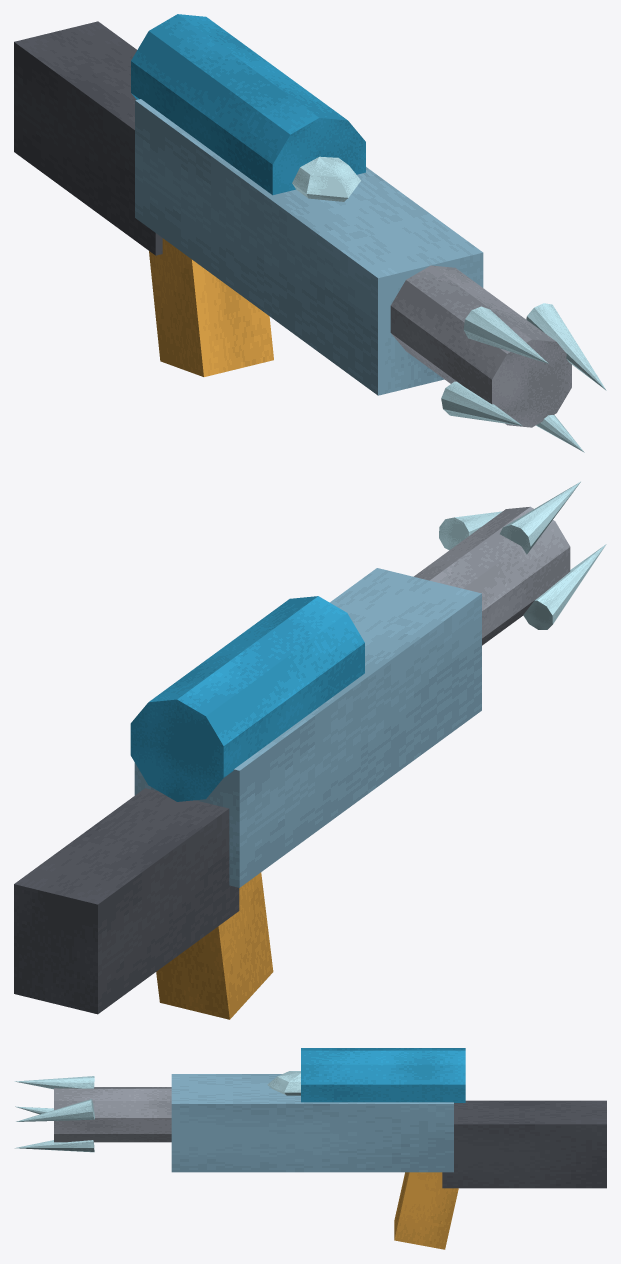
The model's file is weapon_frostgun.glb.
3 renders of one model, top to bottom at view 1: azimuth 30°, elevation 25°; view 2: azimuth 150°, elevation 25°; view 3: azimuth 270°, elevation 25°, orthographic. The views are drawn at different scales.
Parts seen in each view (by area): view 1: weapon_frostgun; view 2: weapon_frostgun; view 3: weapon_frostgun.
Part boxes in pixels (x1=…): weapon_frostgun: x1=14, y1=14, x2=606, y2=452; weapon_frostgun: x1=14, y1=481, x2=606, y2=1019; weapon_frostgun: x1=14, y1=1048, x2=606, y2=1249.
Size of the model in its own units: 0.3269 by 0.8873 by 2.52.
1 material, 1 textured.
